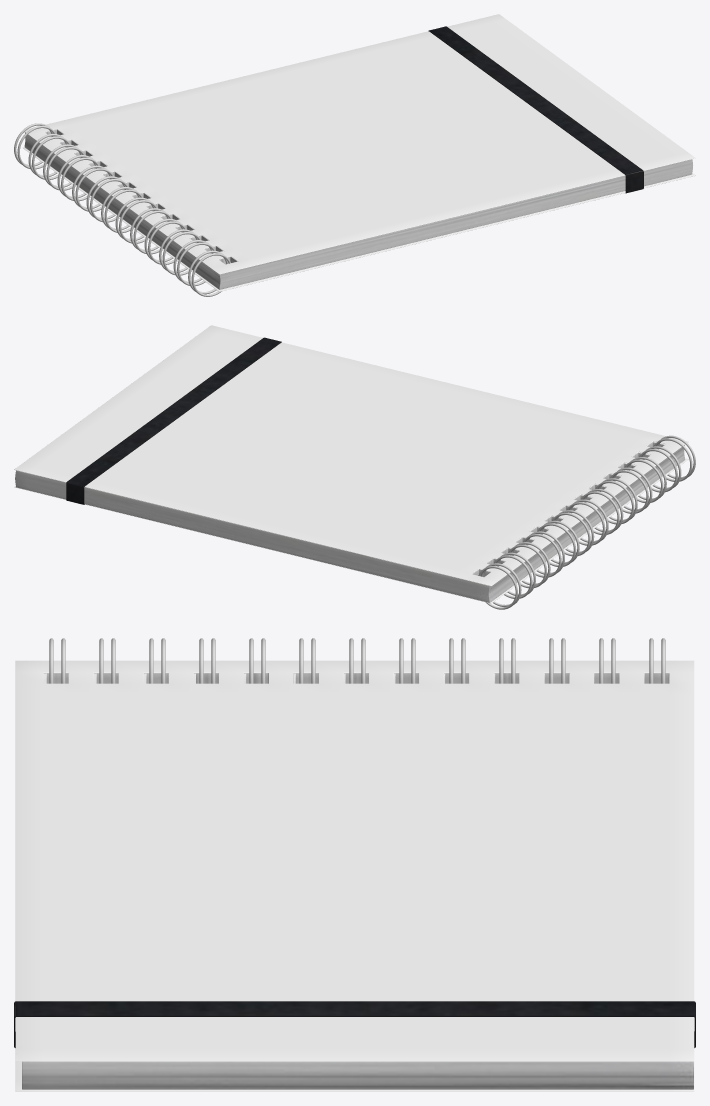
The model's file is caderno.glb.
3 renders of one model, top to bottom at view 1: azimuth 30°, elevation 25°; view 2: azimuth 150°, elevation 25°; view 3: azimuth 270°, elevation 25°, orthographic. The views are drawn at different scales.
Parts seen in each view (by area): view 1: cover-top, pages, rings, strap, cover-bottom; view 2: cover-top, pages, rings, strap, cover-bottom; view 3: cover-top, pages, strap, rings, cover-bottom.
Part boxes in pixels (x1,y1,x2,y2): cover-top: (25,14,695,274); pages: (24,129,692,289); rings: (14,123,230,296); strap: (428,26,643,193); cover-bottom: (23,147,695,291); cover-top: (14,325,688,586); pages: (15,441,684,602); rings: (478,435,695,609); strap: (66,337,281,504); cover-bottom: (14,458,688,603); cover-top: (15,660,694,1061); pages: (22,673,693,1089); strap: (14,1001,695,1047); rings: (49,638,665,683); cover-bottom: (15,1061,694,1091).
Bounding box in the file's own units: 1.54 × 0.1263 × 1.07.
2 materials, 1 textured.
